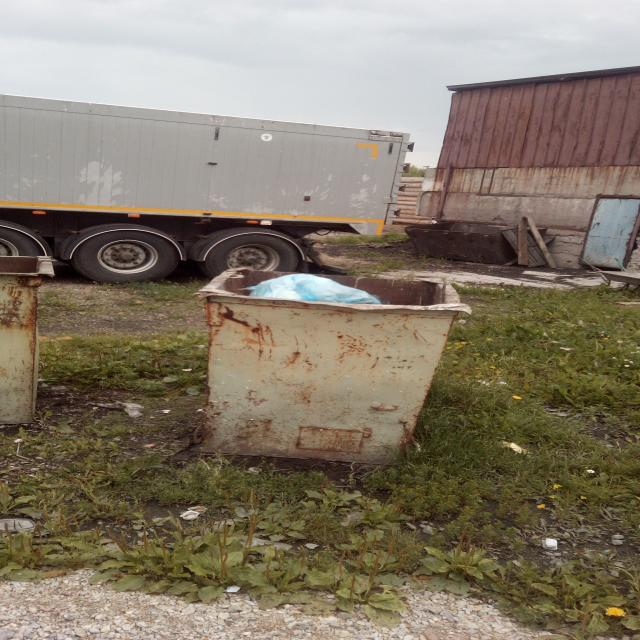bin: (170, 246, 460, 486)
